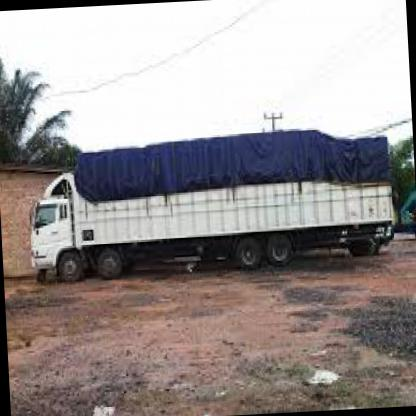truck: (26, 191, 77, 291)
